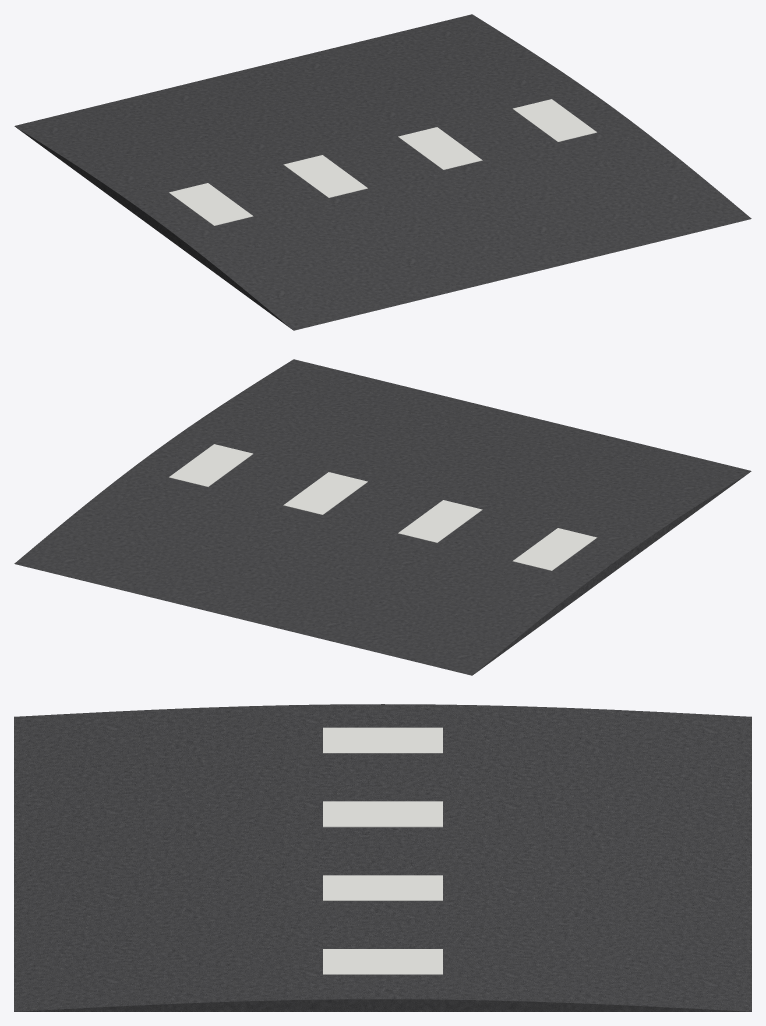
3 renders of one model, top to bottom at view 1: azimuth 30°, elevation 25°; view 2: azimuth 150°, elevation 25°; view 3: azimuth 270°, elevation 25°, orthographic. The views are drawn at different scales.
Visible parts, largest first — view 1: baseOffset=0;depth=3.7;height=0.07;material=asphalt;power=;s (×2); view 2: baseOffset=0;depth=3.7;height=0.07;material=asphalt;power=;s (×2); view 3: baseOffset=0;depth=3.7;height=0.07;material=asphalt;power=;s (×2).
Part boxes in pixels (<box>): baseOffset=0;depth=3.7;height=0.07;material=asphalt;power=;s (×2): <box>14,14,751,330</box>; baseOffset=0;depth=3.7;height=0.07;material=asphalt;power=;s (×2): <box>14,359,751,675</box>; baseOffset=0;depth=3.7;height=0.07;material=asphalt;power=;s (×2): <box>14,704,751,1011</box>.
Size of the model in its own units: 3.5 by 3.7 by 0.074.
2 materials, 1 textured.
